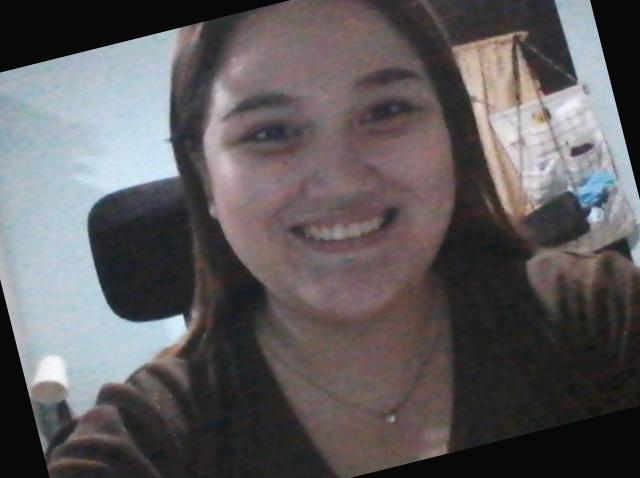senang: (163, 0, 492, 346)
